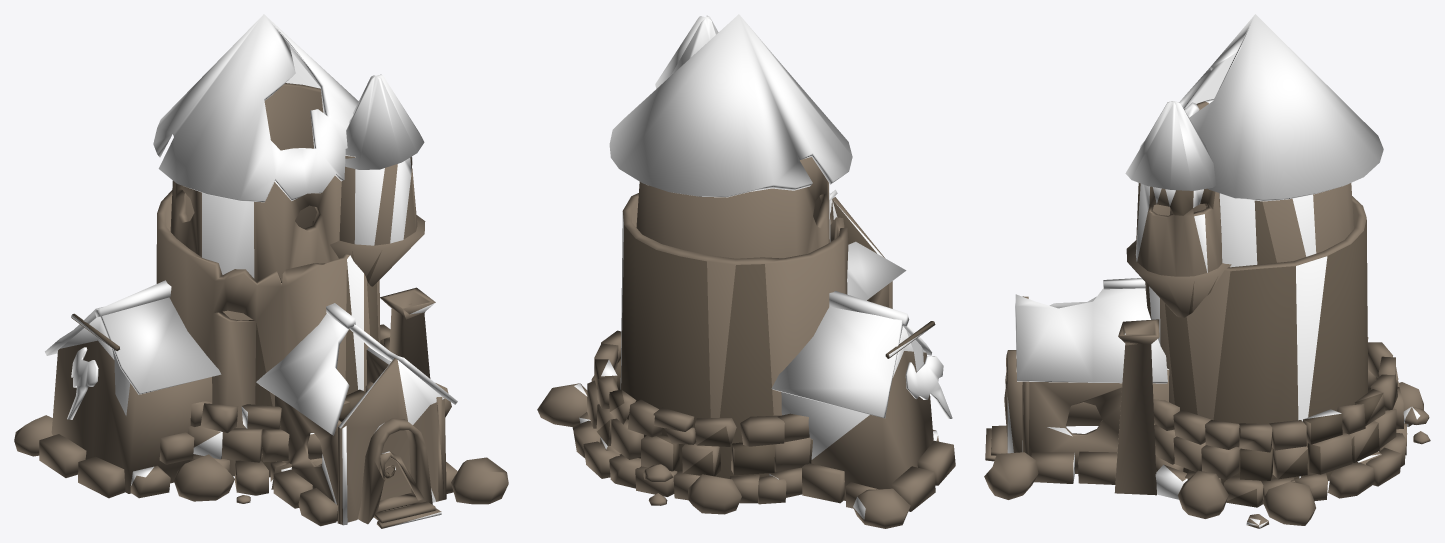
The picture shows the model from 3 angles, left to right: view 1: azimuth 30°, elevation 25°; view 2: azimuth 150°, elevation 25°; view 3: azimuth 270°, elevation 25°; orthographic projection. The views are drawn at different scales.
Visible parts, largest first — view 1: castle_d2; view 2: castle_d2; view 3: castle_d2.
Part boxes in pixels (x1,y1,x2,y2): castle_d2: (14,14,508,528); castle_d2: (537,14,955,528); castle_d2: (984,14,1430,528).
Bounding box in the file's own units: 2.9 × 3.03 × 2.87.
